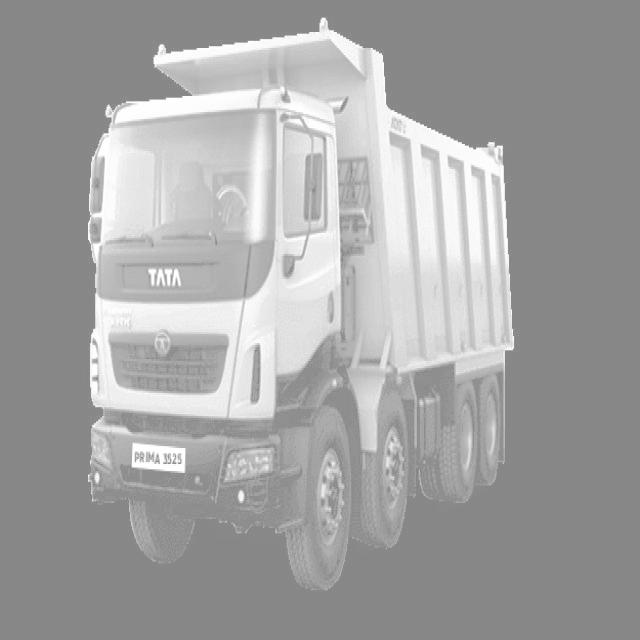HCV: (65, 21, 557, 591)
